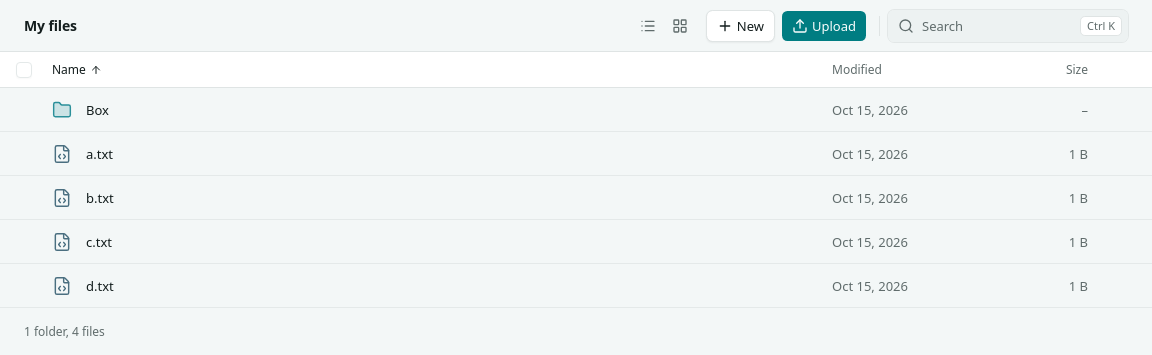
Scenario: items that disappear drop out of the selection
Expected: the text "a.txt" is shown, [86,144,113,164]
Click the text "a.txt": (576, 154) [0,132,1151,176]
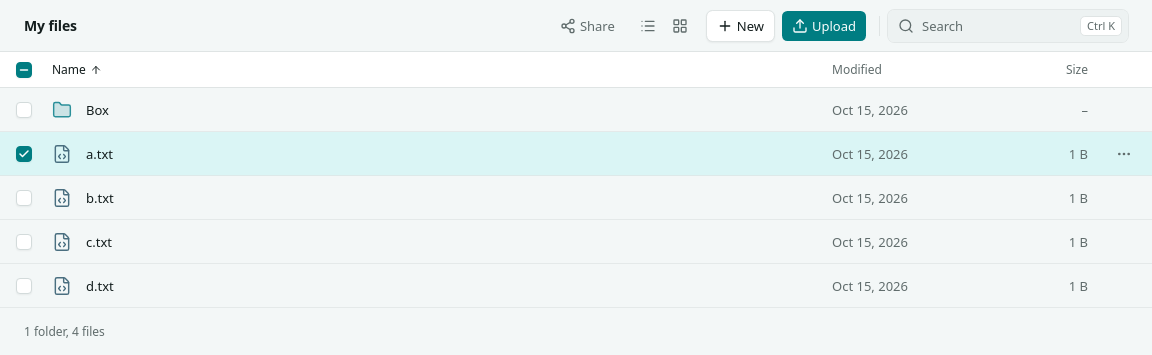
Click the text "b.txt": (576, 198) [0,176,1151,220]
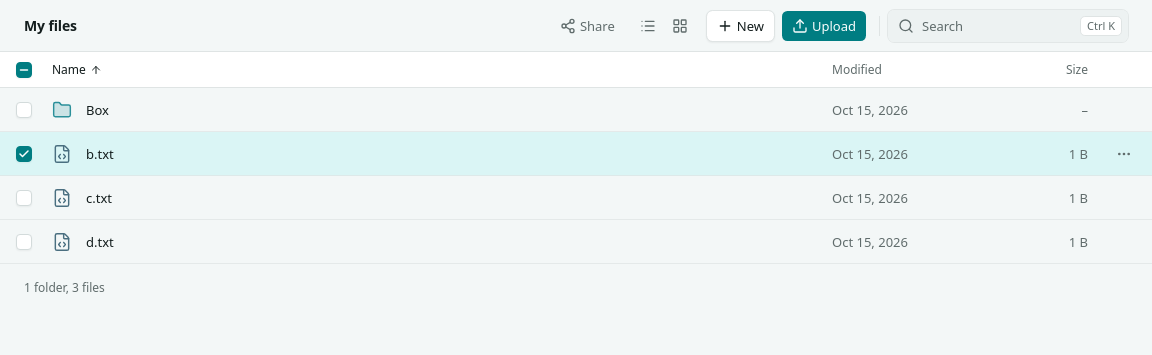
Now the text "a.txt" is gone
